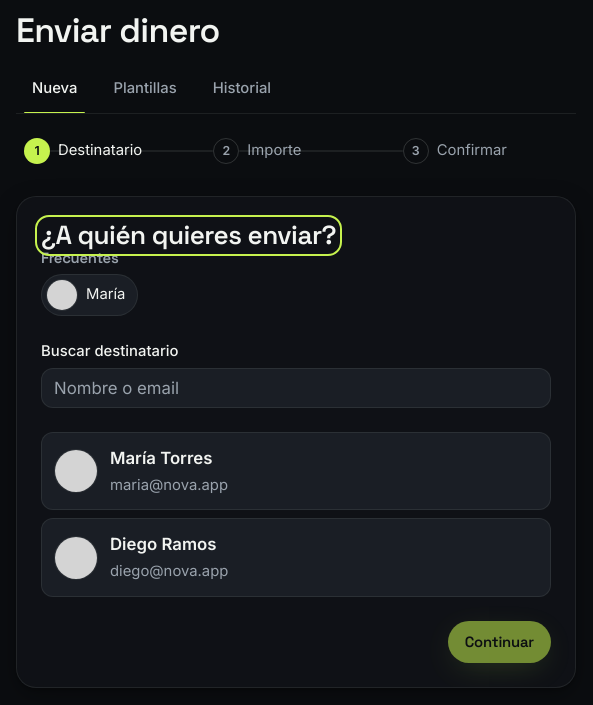
it: TransfersPage › muestra el error del servidor cuando el importe supera el saldo
Click the button "Diego Ramos diego@nova.app": [76, 558] box top-left (41, 518), bottom-right (551, 597)
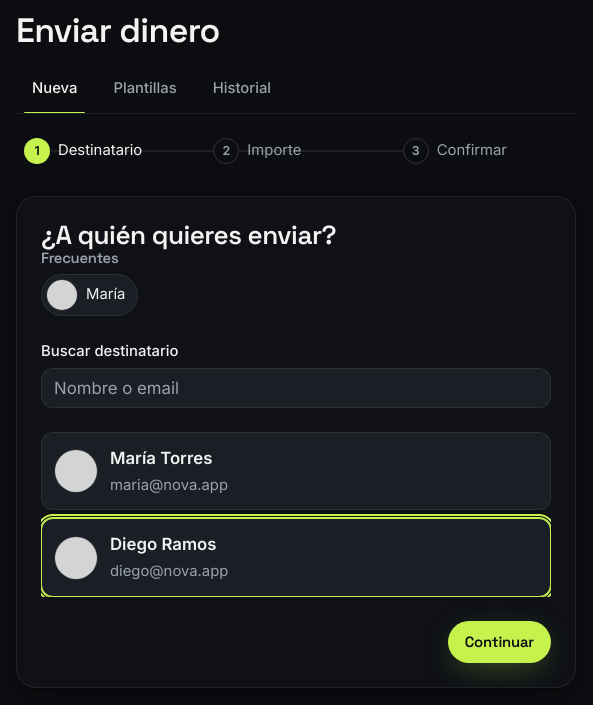
Click the button "Continuar": [499, 642] box top-left (448, 621), bottom-right (551, 663)
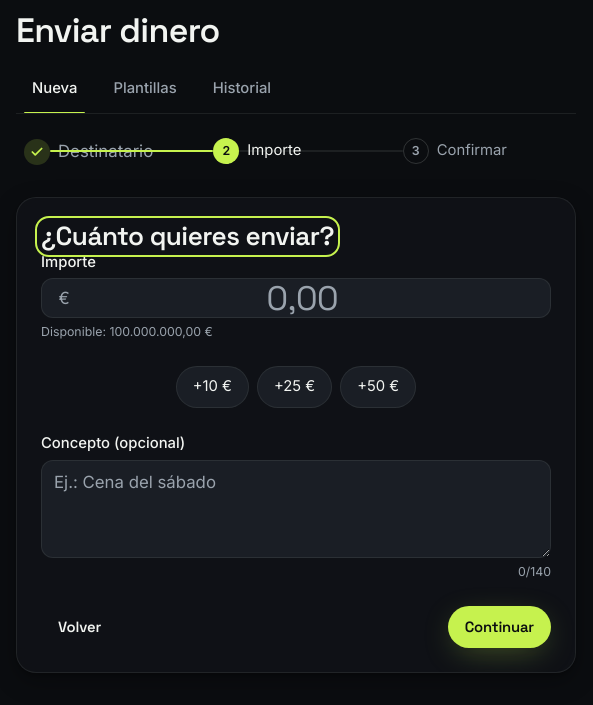
In the number field labelled "Importe": [310, 298] box top-left (82, 279), bottom-right (538, 317), type "99999999"
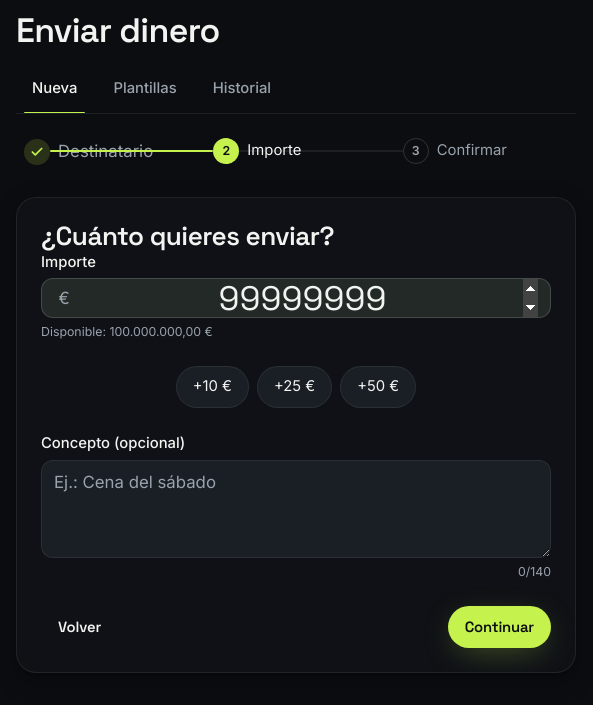
Click the button "Continuar": [499, 627] box top-left (448, 606), bottom-right (551, 648)
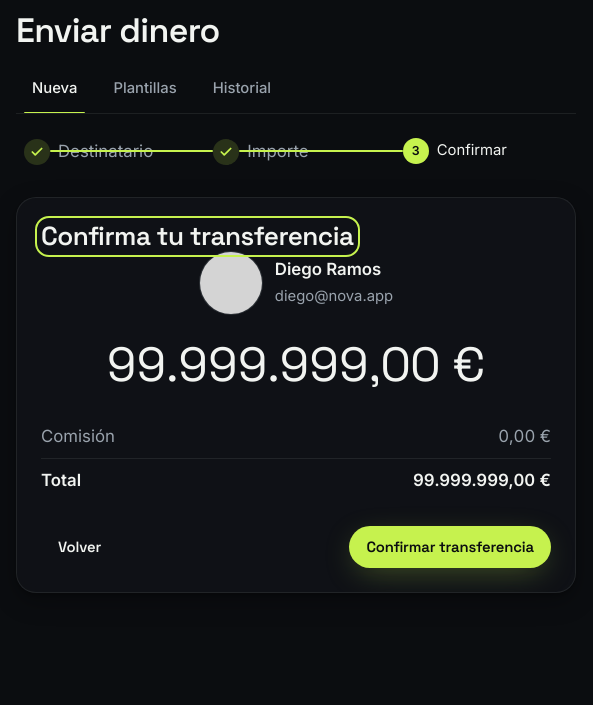
Click the button "Confirmar transferencia": [450, 547] box top-left (349, 526), bottom-right (551, 568)
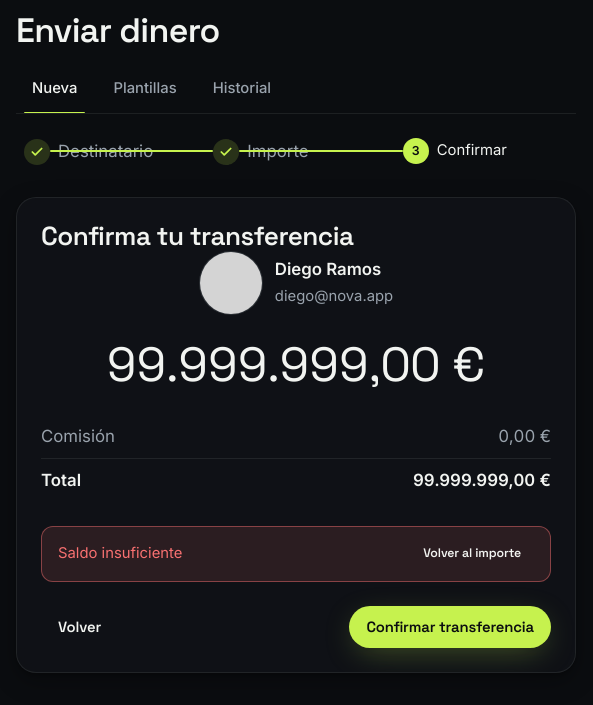
Expected: the message shows "Saldo insuficiente", top-left (58, 544), bottom-right (182, 562)
Expected: the button "Volver al importe" is shown, top-left (410, 539), bottom-right (534, 569)
